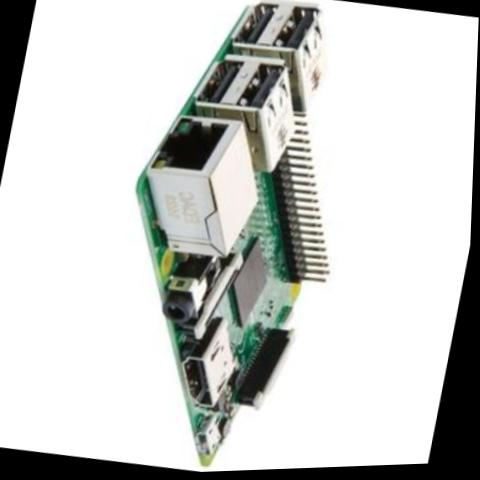Raspberry-Pi-3-Model-B: (79, 0, 384, 477)
